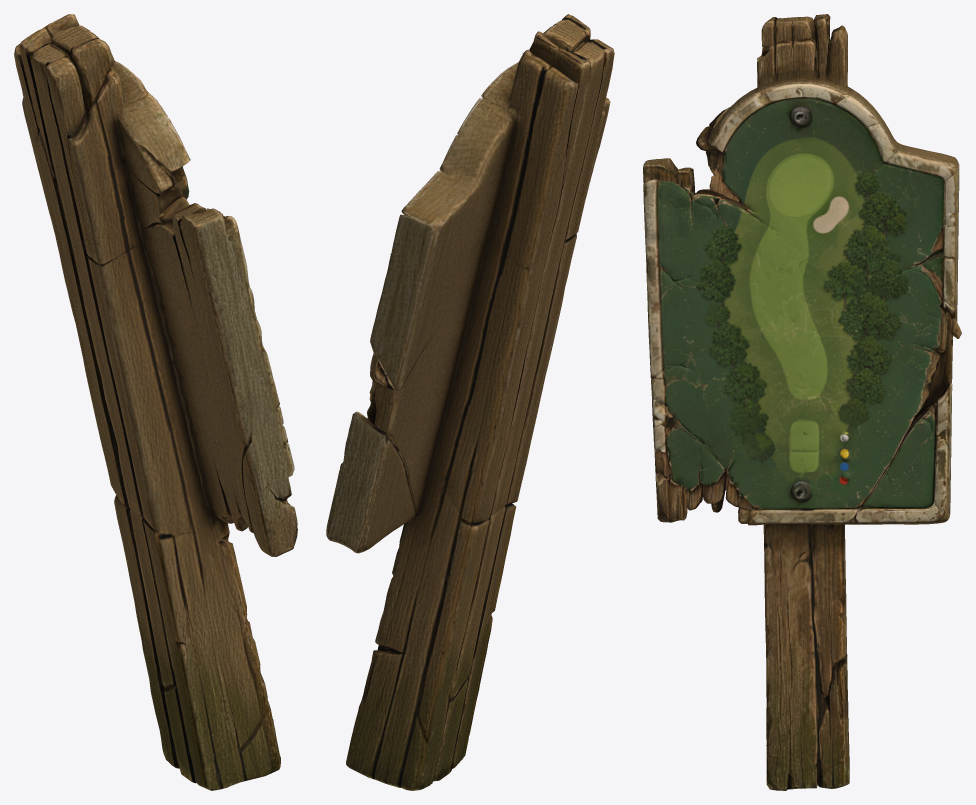
The model's file is wooden+sign+3d+model.glb.
3 renders of one model, left to right at view 1: azimuth 30°, elevation 25°; view 2: azimuth 150°, elevation 25°; view 3: azimuth 270°, elevation 25°, orthographic. The views are drawn at different scales.
Parts seen in each view (by area): view 1: tripo_node_58a7b568-c6a0-4097-9b5e-3008e18c22c5; view 2: tripo_node_58a7b568-c6a0-4097-9b5e-3008e18c22c5; view 3: tripo_node_58a7b568-c6a0-4097-9b5e-3008e18c22c5.
Boxes of the visible parts, x1,y1,x2,y2 form: tripo_node_58a7b568-c6a0-4097-9b5e-3008e18c22c5: (14, 14, 297, 790); tripo_node_58a7b568-c6a0-4097-9b5e-3008e18c22c5: (326, 14, 614, 790); tripo_node_58a7b568-c6a0-4097-9b5e-3008e18c22c5: (643, 14, 961, 790).
Size of the model in its own units: 0.3036 by 0.9791 by 0.4047.
Materials: 1 (1 with a texture image).
